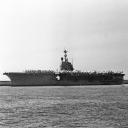Portanaves: (3, 46, 127, 89)
